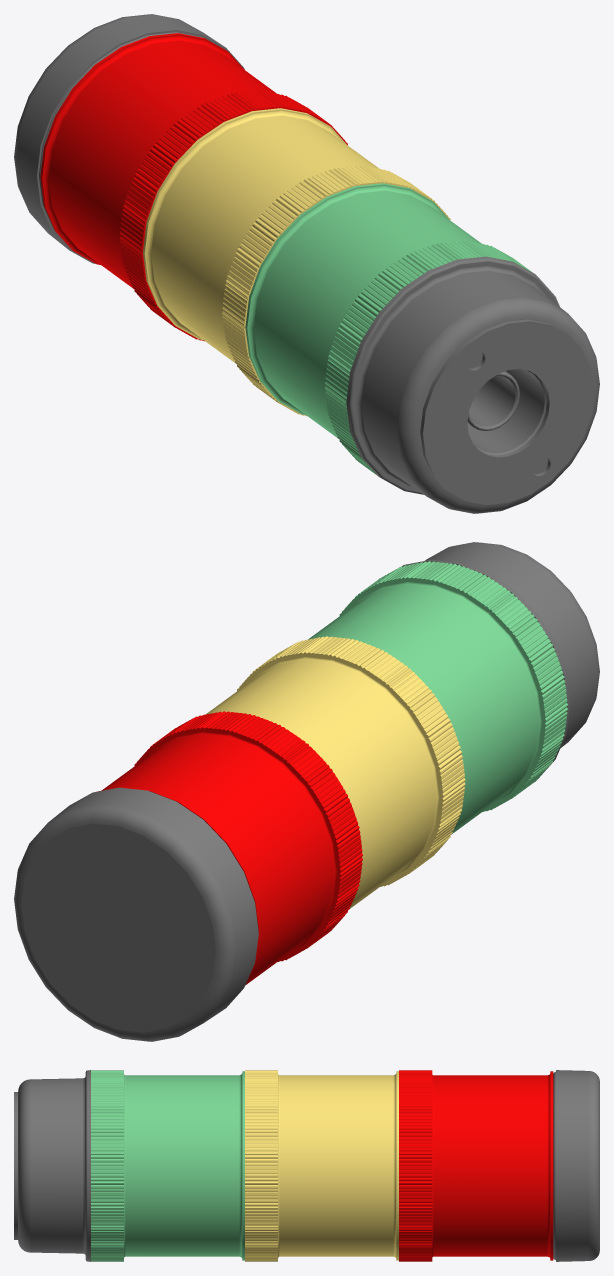
3 views of the same model, one above another, from view 1: azimuth 30°, elevation 25°; view 2: azimuth 150°, elevation 25°; view 3: azimuth 270°, elevation 25° (orthographic). The views are drawn at different scales.
Parts seen in each view (by area): view 1: 81400-20_zubehoer3A_1, 81400-20_zubehoer2A_2, 81400-20_zubehoer1-_3; view 2: 81400-20_zubehoer3A_1, 81400-20_zubehoer1-_3; view 3: 81400-20_zubehoer3A_1, 81400-20_zubehoer1-_3, 81400-20_zubehoer2A_2.
Part boxes in pixels (bbox=[...]): 81400-20_zubehoer3A_1: bbox=[39, 32, 599, 513]; 81400-20_zubehoer2A_2: bbox=[420, 319, 593, 504]; 81400-20_zubehoer1-_3: bbox=[14, 14, 244, 263]; 81400-20_zubehoer3A_1: bbox=[97, 542, 599, 985]; 81400-20_zubehoer1-_3: bbox=[14, 787, 258, 1041]; 81400-20_zubehoer3A_1: bbox=[18, 1070, 555, 1261]; 81400-20_zubehoer1-_3: bbox=[556, 1070, 599, 1261]; 81400-20_zubehoer2A_2: bbox=[14, 1092, 17, 1239].
Size of the model in its own units: 0.213 by 0.07 by 0.07.
